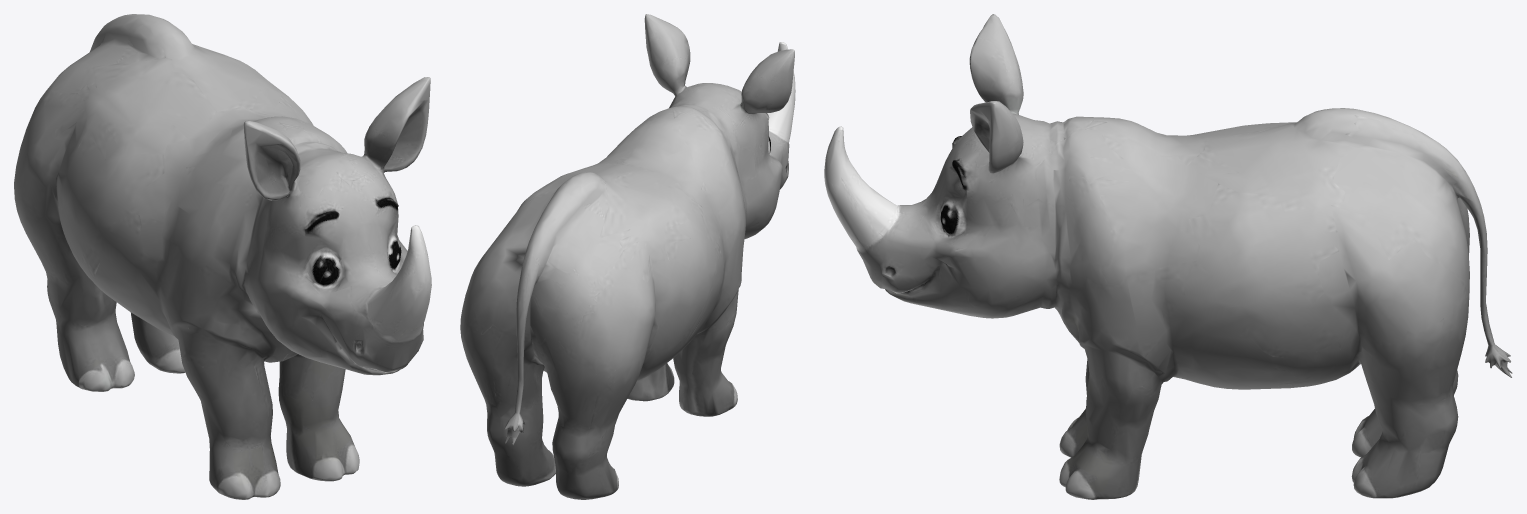
File: rhino.glb
The picture shows the model from 3 angles, left to right: view 1: azimuth 30°, elevation 25°; view 2: azimuth 150°, elevation 25°; view 3: azimuth 270°, elevation 25°; orthographic projection. The views are drawn at different scales.
Bounding box in the file's own units: 0.7182 × 1.25 × 1.9.
Materials: 1 (1 with a texture image).
